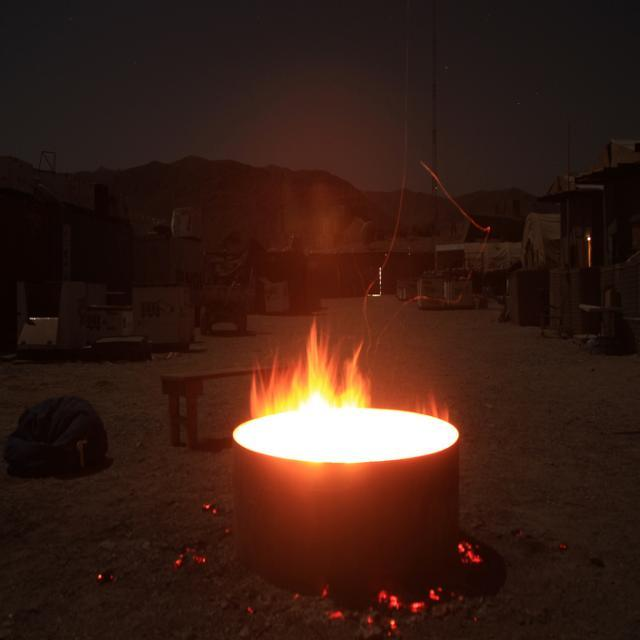Fire: (272, 390, 417, 454)
